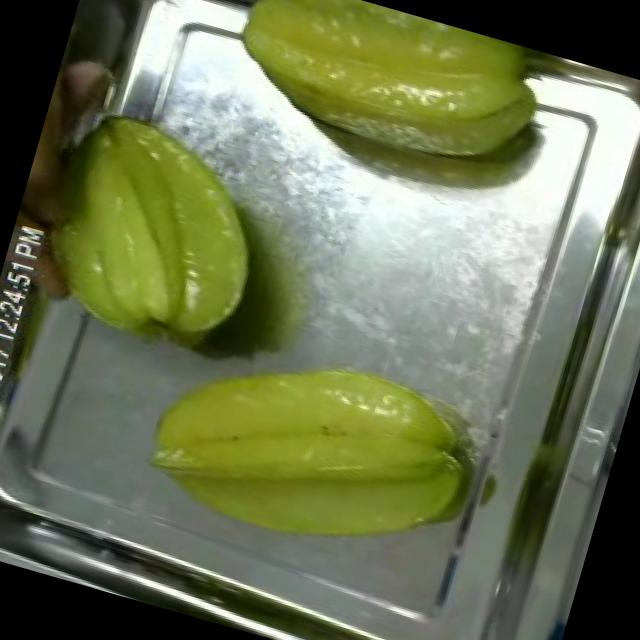fruit: (116, 298, 504, 600), (1, 81, 304, 378), (201, 0, 558, 202)
